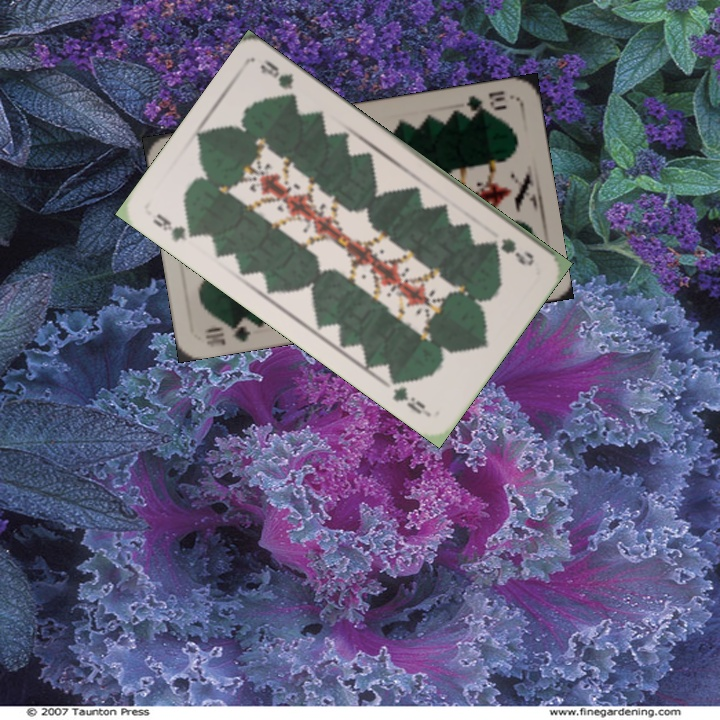G10: (201, 315, 257, 349), (462, 86, 510, 118)
G9: (148, 209, 202, 245), (485, 233, 537, 269)
